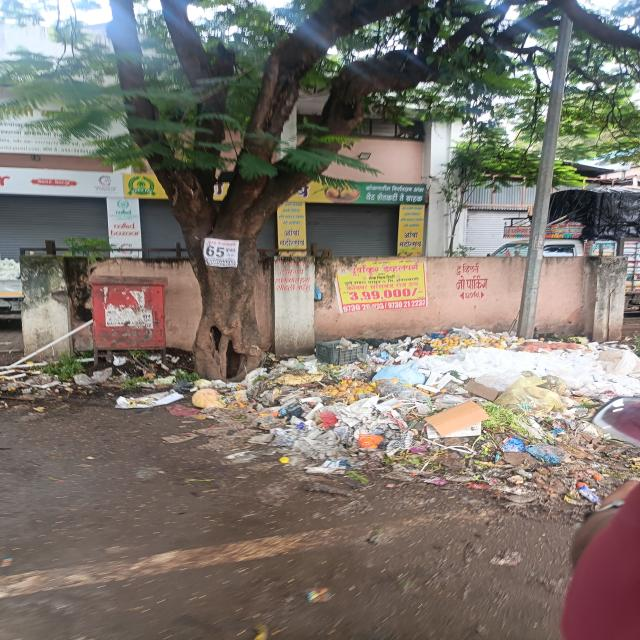garbage: (247, 335, 640, 505), (13, 352, 184, 406)
